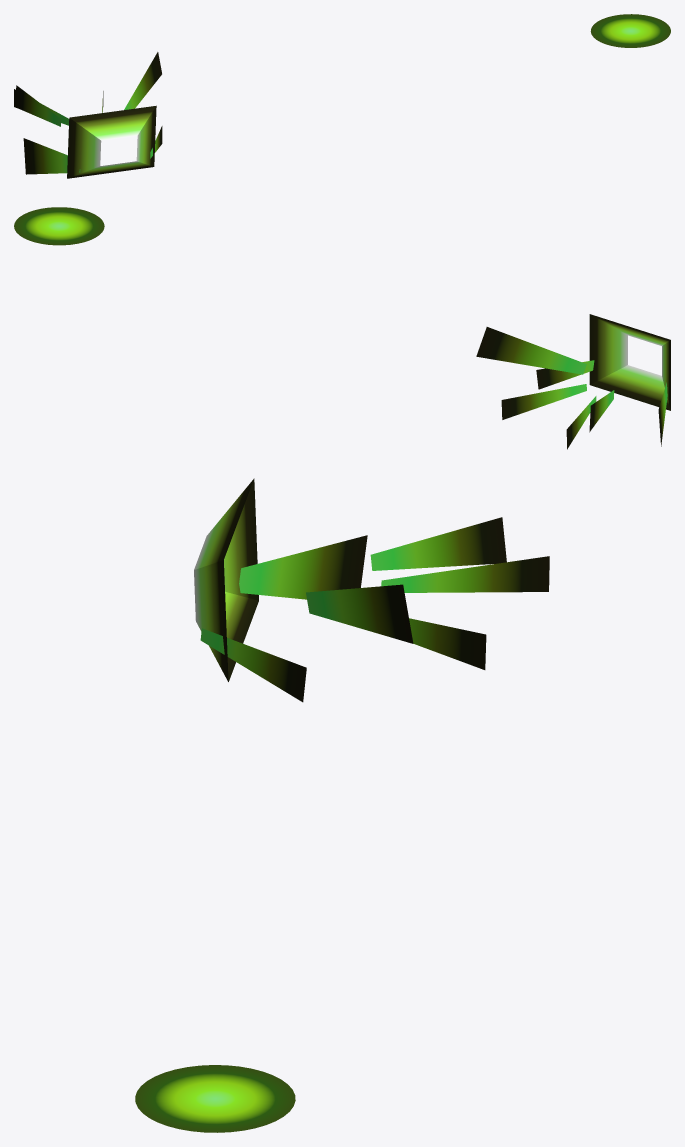
File: pref_fx_lobby_000303_asia_scene_effects_hs_lv3.fbx
3 views of the same model, one above another, from view 1: azimuth 30°, elevation 25°; view 2: azimuth 150°, elevation 25°; view 3: azimuth 270°, elevation 25° (orthographic). The views are drawn at different scales.
Parts seen in each view (by area): view 1: kuosan09, kuosan01, canliu03, canliu02, canliu05; view 2: kuosan09, kuosan01, canliu05, canliu04, canliu06, canliu02, canliu01; view 3: kuosan01, kuosan09, canliu03, canliu02, canliu05, canliu01, canliu06, canliu04.
Part boxes in pixels (x1,y1,x2,y2): kuosan09: [67, 105, 156, 178]; kuosan01: [590, 14, 670, 47]; canliu03: [23, 138, 80, 174]; canliu02: [15, 85, 61, 126]; canliu05: [124, 52, 161, 109]; kuosan09: [589, 314, 670, 410]; kuosan01: [14, 207, 104, 245]; canliu05: [476, 327, 586, 374]; canliu04: [501, 384, 586, 419]; canliu06: [536, 360, 594, 389]; canliu02: [589, 390, 614, 432]; canliu01: [566, 396, 596, 449]; kuosan01: [135, 1065, 295, 1132]; kuosan09: [194, 478, 258, 681]; canliu03: [239, 535, 367, 599]; canliu02: [370, 517, 506, 570]; canliu05: [306, 584, 413, 643]; canliu01: [381, 556, 549, 592]; canliu06: [200, 628, 306, 702]; canliu04: [409, 618, 486, 669].
Bounding box in the file's own units: 68.88 × 8.73 × 20.48.
